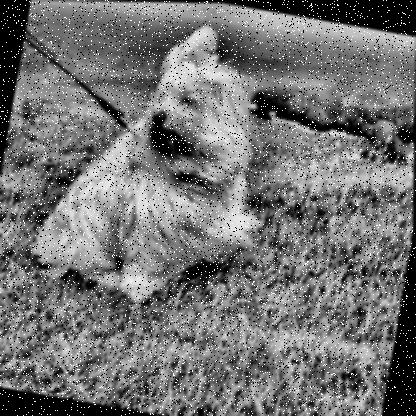dog: (130, 9, 272, 201)
